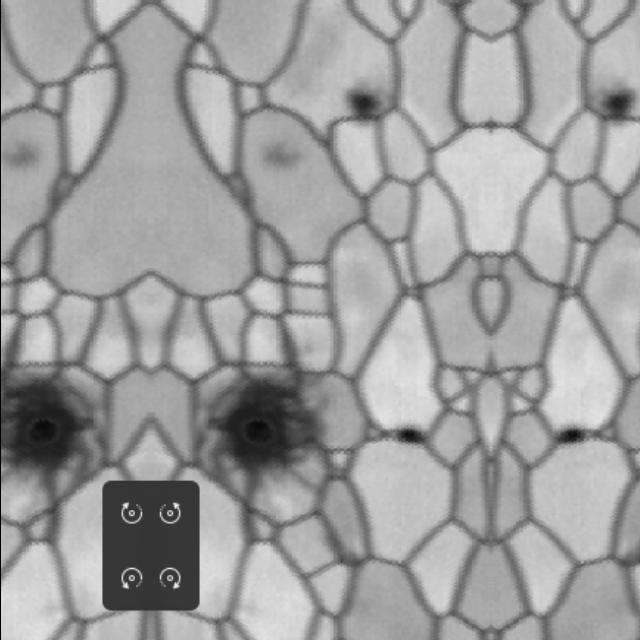good_void: (204, 367, 330, 489), (0, 367, 96, 489), (254, 127, 309, 185), (0, 127, 47, 185), (337, 79, 385, 135), (597, 79, 640, 135), (378, 423, 432, 449), (550, 423, 604, 449)
